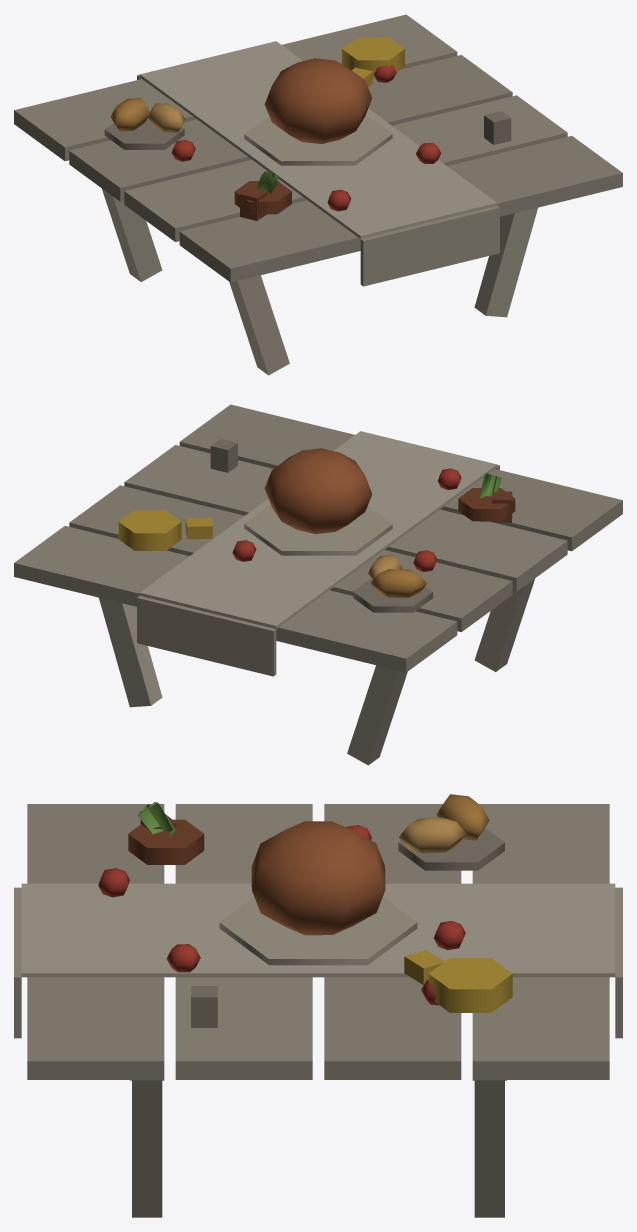
Rendered from farm_feast.glb.
3 renders of one model, top to bottom at view 1: azimuth 30°, elevation 25°; view 2: azimuth 150°, elevation 25°; view 3: azimuth 270°, elevation 25°, orthographic. The views are drawn at different scales.
Parts seen in each view (by area): view 1: FarmBody; view 2: FarmBody; view 3: FarmBody.
Boxes of the visible parts, left/top/right/bottom form: FarmBody: left=14, top=14, right=622, bottom=375; FarmBody: left=14, top=404, right=622, bottom=765; FarmBody: left=14, top=794, right=622, bottom=1217.
Size of the model in its own units: 1.6 by 0.8999 by 1.6.
